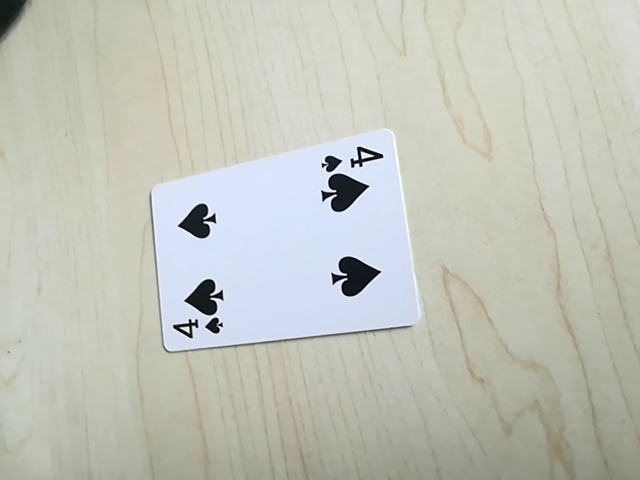ht 4: (162, 313, 229, 346), (322, 140, 386, 173)
